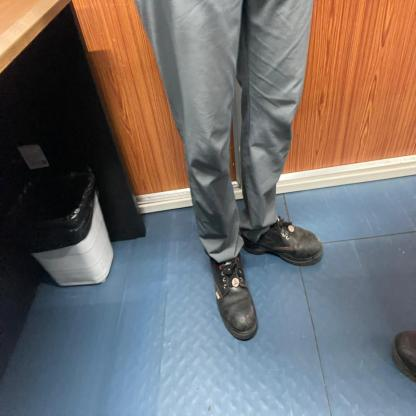bota: (209, 253, 260, 342), (239, 215, 324, 267)
